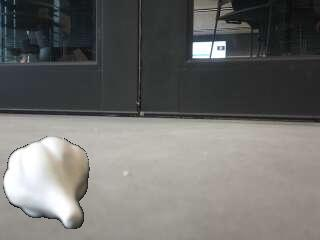Garlic: (4, 135, 90, 230)
